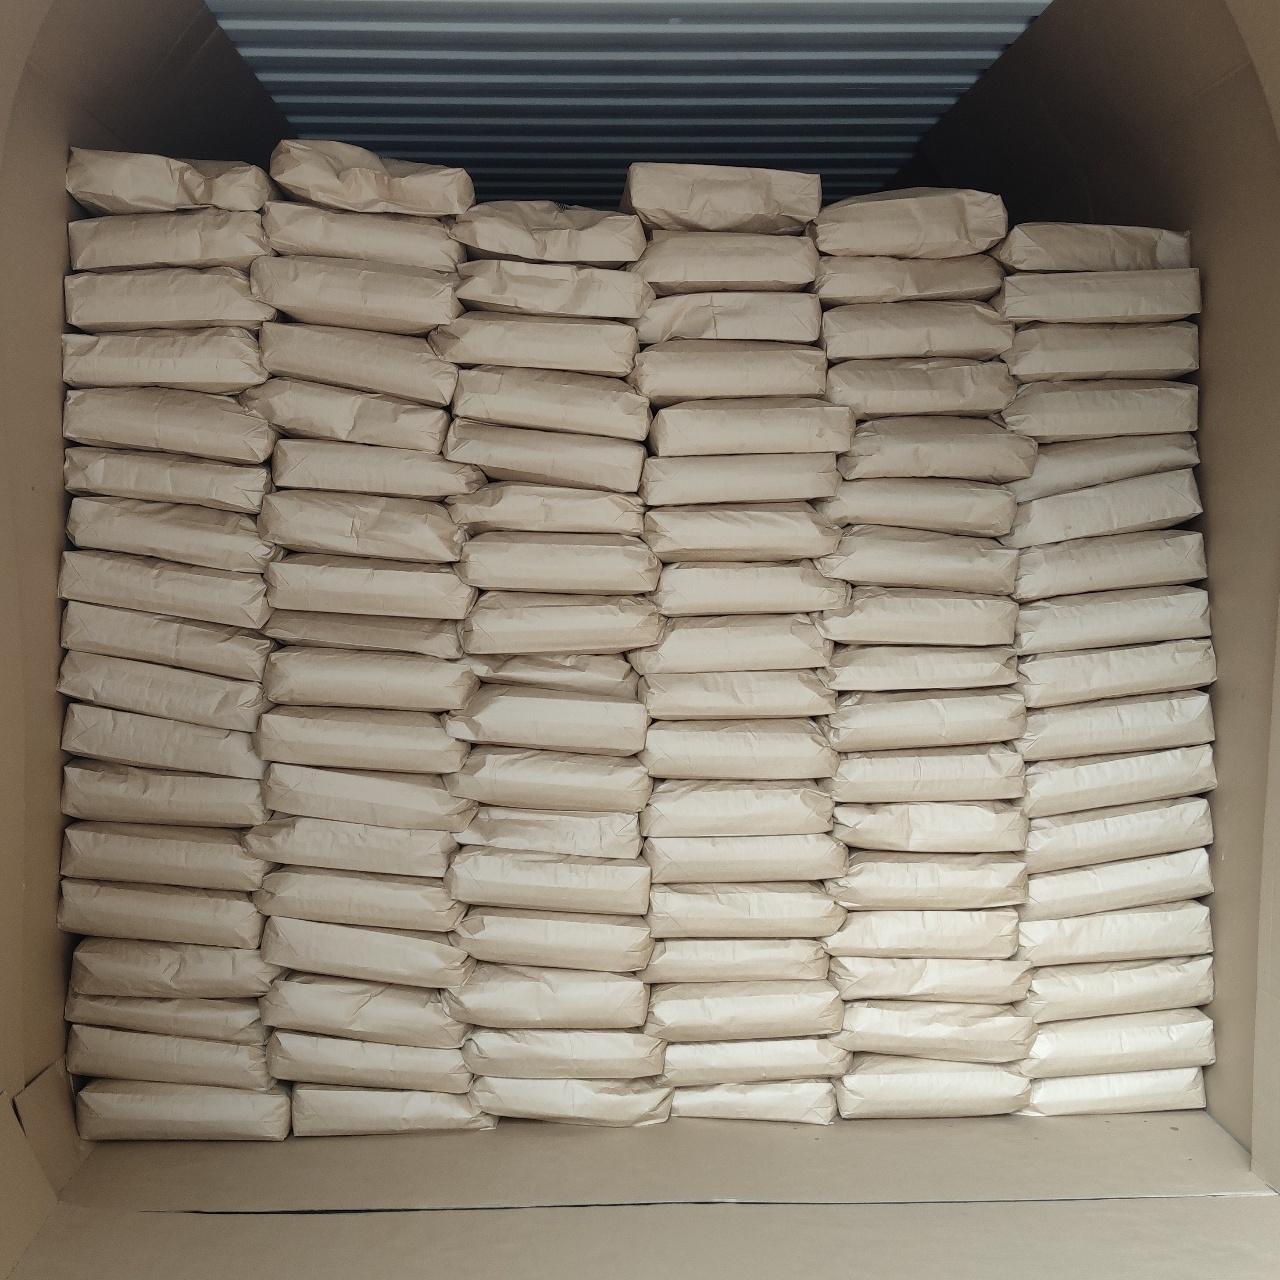sack: (60, 650, 269, 732), (61, 601, 272, 680), (67, 496, 281, 573), (260, 322, 456, 406), (59, 550, 269, 628), (249, 256, 461, 333), (261, 917, 477, 992), (1001, 469, 1201, 548), (64, 388, 274, 463), (260, 973, 469, 1048), (240, 378, 447, 453), (62, 703, 266, 779), (271, 140, 474, 216), (446, 416, 644, 492), (452, 366, 651, 441), (60, 822, 273, 891), (263, 763, 476, 832), (258, 490, 467, 560), (805, 187, 1008, 258), (620, 162, 820, 234), (262, 201, 464, 272), (444, 685, 648, 755), (261, 646, 477, 712), (1021, 745, 1216, 818), (61, 758, 267, 827), (1025, 797, 1212, 873), (58, 879, 260, 949), (1019, 848, 1212, 921), (65, 446, 272, 514), (1011, 529, 1206, 601), (1007, 1009, 1213, 1077), (1013, 691, 1213, 761), (67, 148, 279, 214), (444, 846, 649, 914), (1016, 638, 1215, 708), (256, 707, 467, 773), (1011, 955, 1212, 1024), (255, 866, 465, 932), (67, 1024, 274, 1090), (443, 746, 650, 812), (65, 267, 275, 332), (428, 311, 638, 376), (266, 554, 475, 619), (817, 526, 1016, 594), (63, 327, 268, 393), (441, 963, 648, 1028), (242, 816, 456, 878), (627, 340, 825, 407), (77, 1078, 290, 1140), (72, 937, 292, 997), (1015, 586, 1209, 654), (1005, 433, 1198, 501), (1014, 900, 1212, 966), (449, 907, 653, 971), (819, 689, 1025, 752), (839, 417, 1037, 482), (69, 207, 273, 270), (463, 591, 666, 654), (827, 1001, 1036, 1062), (268, 1030, 470, 1093), (271, 438, 485, 497), (832, 1054, 1029, 1118), (629, 615, 832, 677), (450, 201, 645, 265), (810, 586, 1018, 646), (457, 532, 660, 593), (644, 980, 843, 1042), (649, 397, 855, 456), (1001, 380, 1197, 442), (456, 260, 655, 321), (643, 501, 842, 562), (820, 301, 1014, 363), (639, 718, 839, 778), (825, 358, 1017, 420), (1001, 321, 1197, 381), (629, 232, 818, 294), (824, 851, 1026, 909), (65, 988, 268, 1045), (653, 559, 849, 617), (819, 746, 1022, 802), (646, 882, 845, 939), (817, 479, 1015, 536), (991, 270, 1198, 323), (641, 780, 833, 837), (291, 1084, 497, 1136), (639, 453, 839, 506), (444, 483, 644, 535), (462, 1028, 667, 1078), (642, 834, 847, 883), (468, 1077, 672, 1126), (630, 292, 820, 344), (814, 255, 1004, 307), (834, 801, 1027, 852), (989, 223, 1189, 272), (825, 908, 1017, 959), (264, 610, 462, 659), (455, 806, 641, 857), (640, 672, 834, 719), (1016, 1067, 1205, 1115), (661, 1039, 850, 1086), (829, 956, 1029, 1000), (819, 647, 1016, 691), (639, 940, 828, 983), (461, 655, 639, 699), (672, 1080, 837, 1123)
